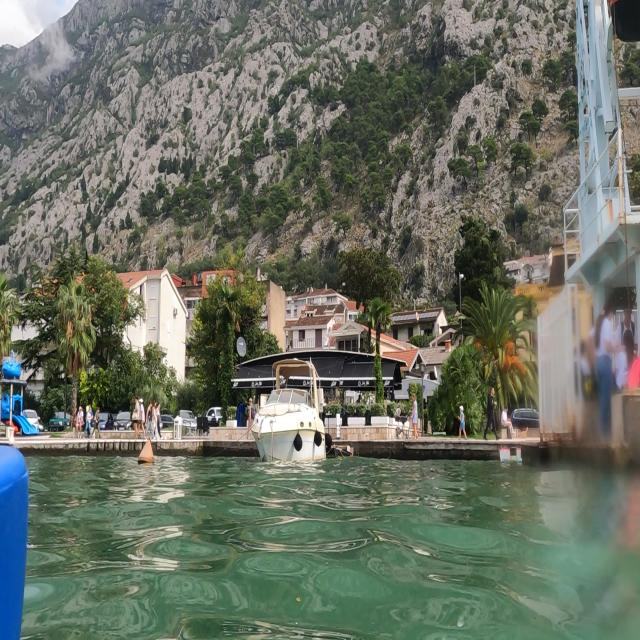boat: (249, 354, 329, 467)
buoy: (132, 432, 158, 473)
